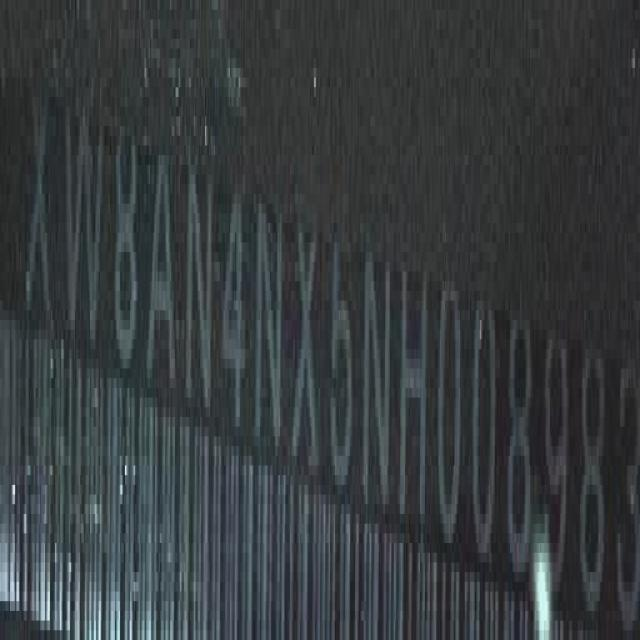0: (436, 280, 464, 548), (471, 294, 494, 564)
3: (615, 340, 640, 630)
4: (222, 193, 249, 443)
5: (328, 224, 354, 496)
8: (578, 342, 609, 622), (508, 310, 536, 589), (114, 121, 141, 380)
9: (543, 312, 570, 607)
A: (147, 152, 178, 406)
H: (399, 260, 430, 534)
N: (363, 246, 393, 515), (256, 194, 286, 456), (187, 160, 216, 423)
W: (62, 83, 109, 366)
X: (24, 83, 54, 336), (295, 217, 322, 483)
